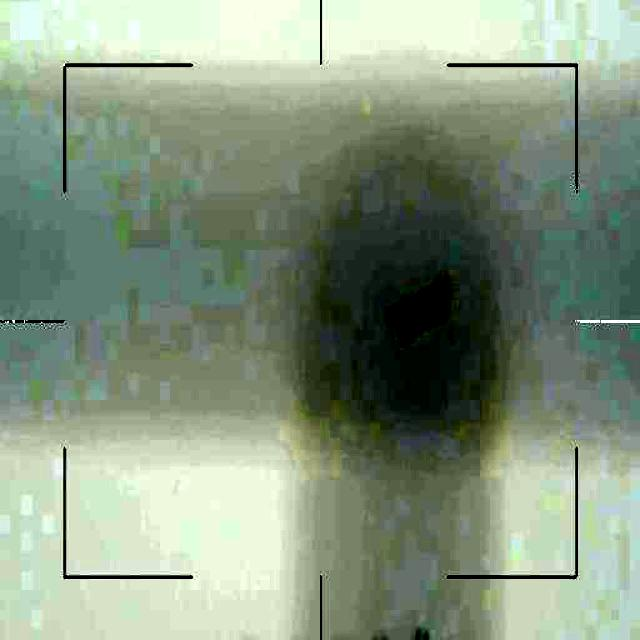bird: (386, 282, 442, 338)
